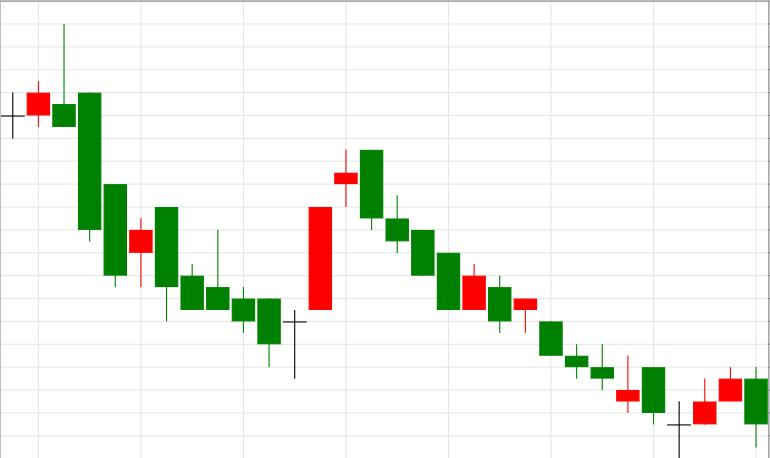morning_star_rise: (359, 149, 716, 458)
